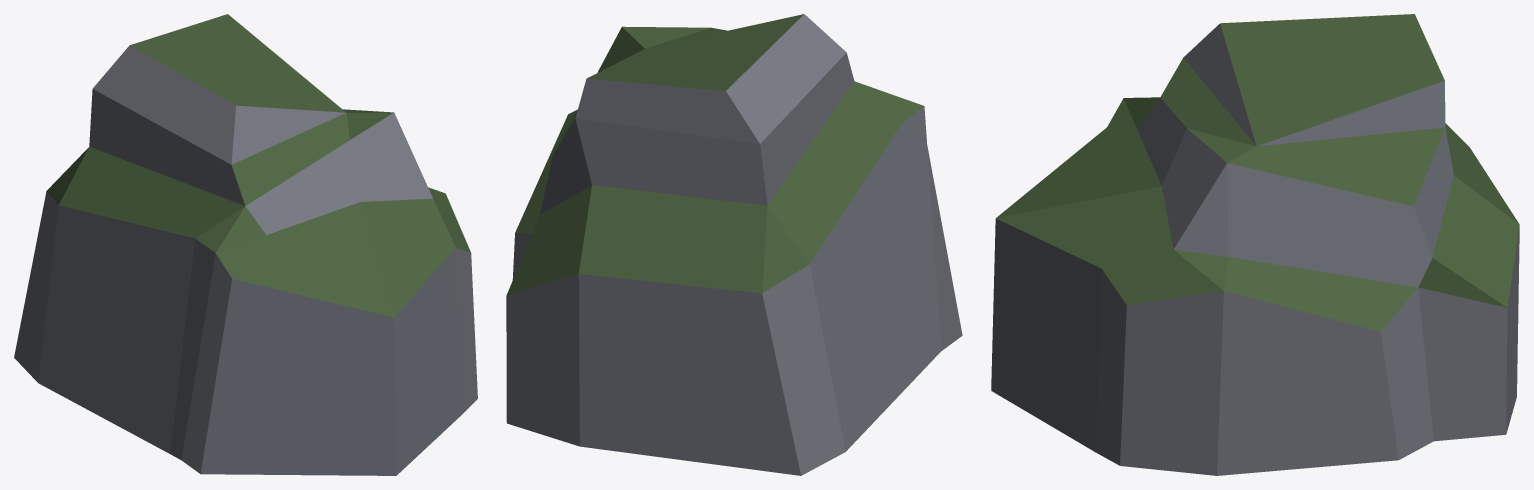
The model's file is Rock_Moss_7.gltf.
The picture shows the model from 3 angles, left to right: view 1: azimuth 30°, elevation 25°; view 2: azimuth 150°, elevation 25°; view 3: azimuth 270°, elevation 25°; orthographic projection. The views are drawn at different scales.
Visible parts, largest first — view 1: Rock_Moss_7; view 2: Rock_Moss_7; view 3: Rock_Moss_7.
Part boxes in pixels (x1,y1,x2,y2): Rock_Moss_7: [14, 14, 477, 475]; Rock_Moss_7: [506, 14, 962, 475]; Rock_Moss_7: [991, 14, 1519, 475].
Size of the model in its own units: 0.8755 by 0.7739 by 1.1.
